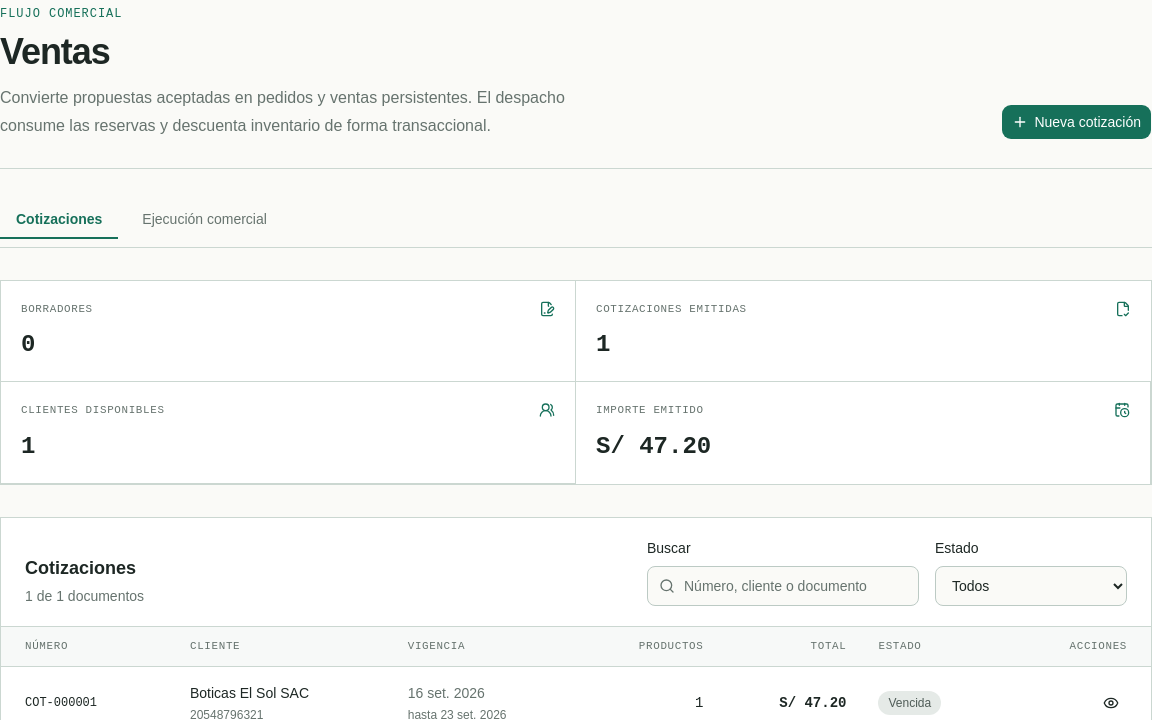
Scenario: VentasPage › abre el detalle de una cotización desde la acción de consulta
Click the button named "Ver detalle de COT-000001": coordinates (1111, 703) [1095,687,1127,719]
(page scrolled)
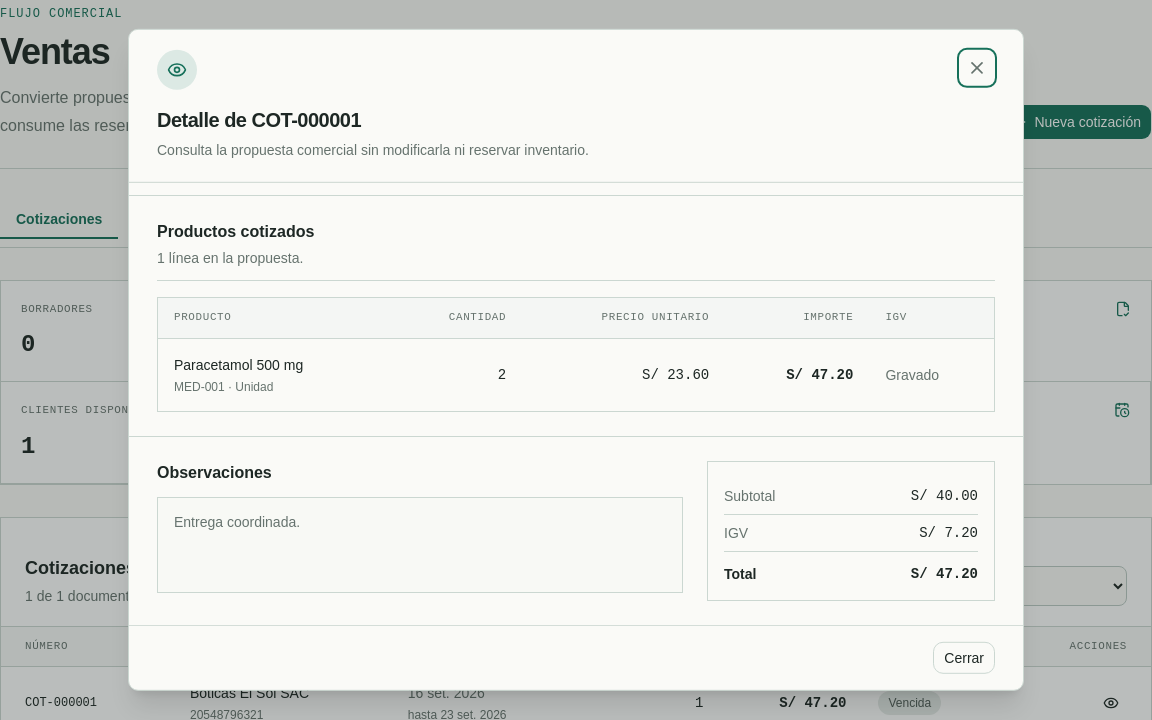
Now the dialog "Detalle de COT-000001" is shown
Now the text "Entrega coordinada." is shown, box [157,496,683,592]
